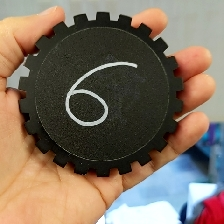gear: (16, 10, 184, 179)
